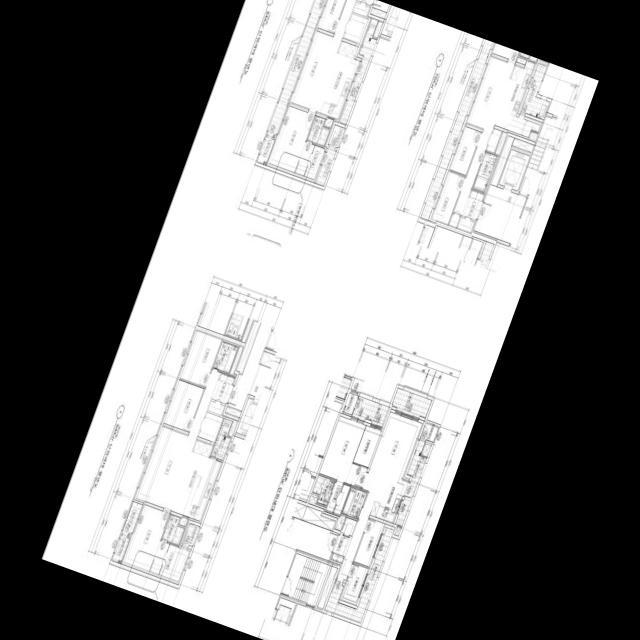background: (41, 0, 599, 640)
space_balconi: (420, 40, 493, 221), (266, 0, 324, 138), (324, 528, 394, 623), (339, 19, 378, 125), (395, 440, 426, 527), (520, 63, 549, 120), (391, 388, 432, 418), (352, 396, 389, 425), (210, 419, 232, 461), (315, 148, 336, 186), (121, 501, 142, 537)
space_bedroom: (319, 416, 367, 489), (268, 106, 315, 173), (123, 505, 169, 571), (179, 331, 222, 388), (163, 380, 204, 432), (431, 171, 465, 225), (353, 518, 384, 567), (450, 127, 481, 175), (342, 563, 368, 602), (317, 0, 345, 33)
space_dressroom: (149, 541, 189, 582), (295, 142, 325, 180), (325, 482, 350, 515)
space_elevator: (499, 149, 530, 191)
space_elevator_hall: (474, 185, 526, 243)
space_front: (211, 373, 235, 404), (461, 190, 484, 220), (331, 534, 351, 564), (357, 0, 373, 5)
space_kitchen: (171, 440, 221, 521), (494, 61, 540, 137), (316, 41, 359, 120), (369, 473, 408, 523)
space_living_room: (337, 412, 422, 580), (136, 370, 220, 511), (453, 57, 516, 216), (290, 0, 356, 112)
space_multipurpose_space: (353, 426, 381, 468)
space_other: (490, 136, 514, 186), (316, 566, 337, 609), (301, 506, 335, 531), (343, 13, 368, 44), (198, 412, 223, 443), (181, 523, 199, 548), (327, 125, 345, 148), (486, 129, 502, 153), (229, 346, 242, 375), (420, 423, 438, 442), (512, 139, 533, 153), (457, 217, 474, 233), (341, 518, 356, 536), (352, 2, 369, 17), (207, 401, 224, 416), (495, 132, 506, 155), (370, 8, 386, 19), (225, 407, 241, 418), (373, 21, 383, 38), (448, 214, 460, 228), (335, 515, 345, 529), (421, 444, 431, 457), (228, 421, 236, 437), (324, 118, 333, 128), (179, 517, 188, 527), (309, 494, 318, 504), (516, 57, 526, 65), (529, 132, 537, 140), (394, 527, 401, 536), (529, 56, 537, 62)
space_outdoor_room: (111, 536, 129, 564), (257, 137, 274, 165), (342, 393, 358, 415)
space_staircase: (281, 553, 330, 607)
space_toilet: (472, 152, 497, 192), (212, 342, 238, 374), (341, 487, 367, 519), (306, 116, 329, 147), (161, 514, 184, 545), (312, 475, 335, 506)
